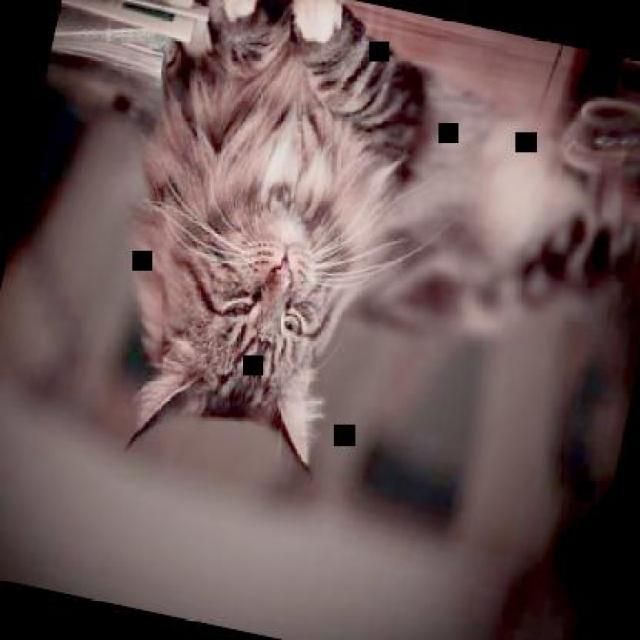cat: (72, 0, 638, 554)
